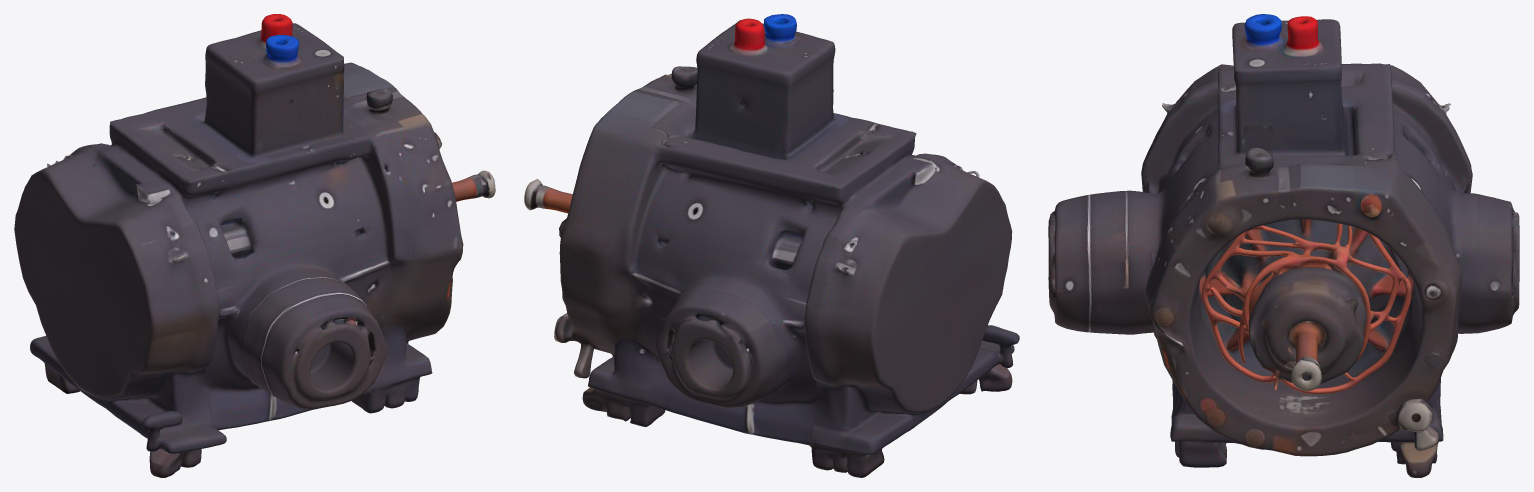
Rendered from item_overclock.glb.
3 renders of one model, left to right at view 1: azimuth 30°, elevation 25°; view 2: azimuth 150°, elevation 25°; view 3: azimuth 270°, elevation 25°, orthographic. The views are drawn at different scales.
Parts seen in each view (by area): view 1: tripo_node_d2581c4d-b3e6-461a-9006-9396285d7759; view 2: tripo_node_d2581c4d-b3e6-461a-9006-9396285d7759; view 3: tripo_node_d2581c4d-b3e6-461a-9006-9396285d7759.
Boxes of the visible parts, x1,y1,x2,y2 form: tripo_node_d2581c4d-b3e6-461a-9006-9396285d7759: (14,14,495,477); tripo_node_d2581c4d-b3e6-461a-9006-9396285d7759: (524,14,1019,477); tripo_node_d2581c4d-b3e6-461a-9006-9396285d7759: (1048,14,1519,477).
Size of the model in its own units: 0.9783 by 0.82 by 0.8713.
Materials: 1 (1 with a texture image).
